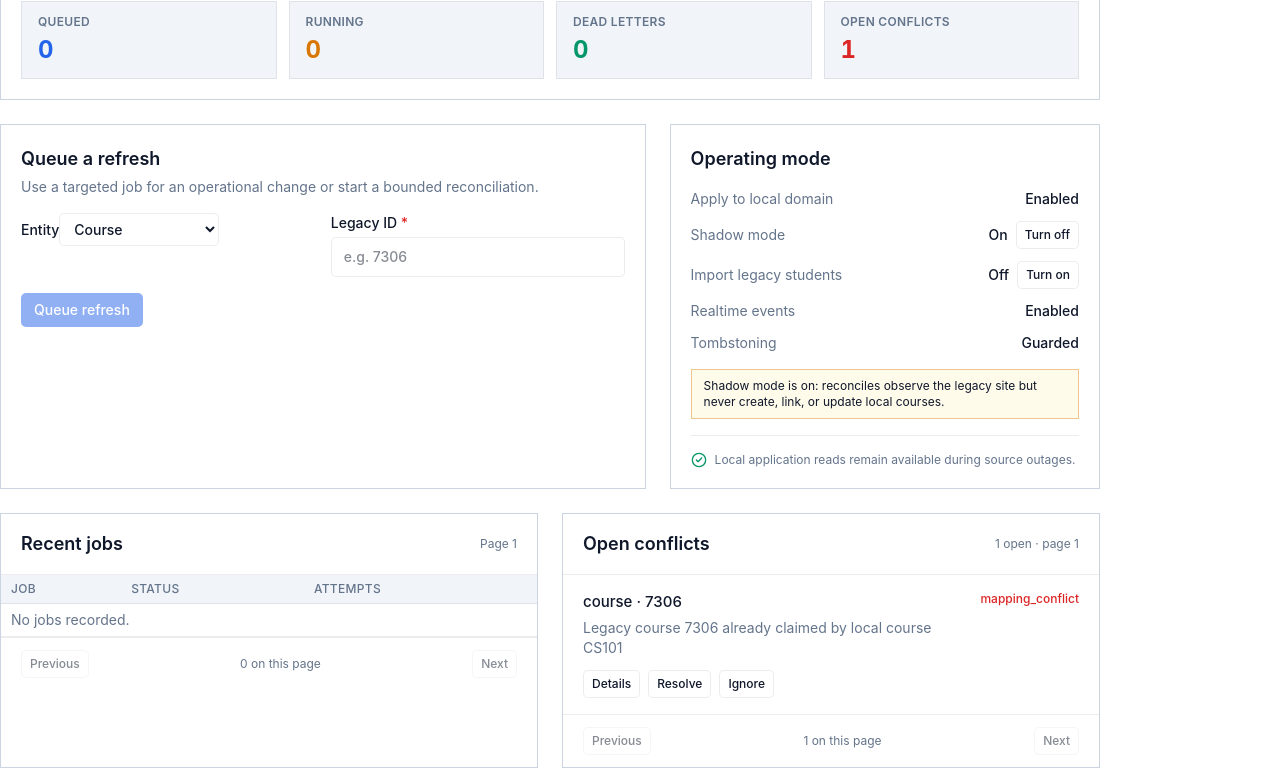
Legacy sync health conflict actions › renders payloads for open conflicts
The width and height of the screenshot is (1280, 768).
(page scrolled)
expect the text "Legacy course 7306 already claimed by local course CS101" is shown: met, box [583, 618, 964, 658]
# Payloads are no longer in the list for heavy-data performance — they load on Details click
Click the button "Details" at (612, 684), box [583, 670, 640, 698]
(page scrolled)
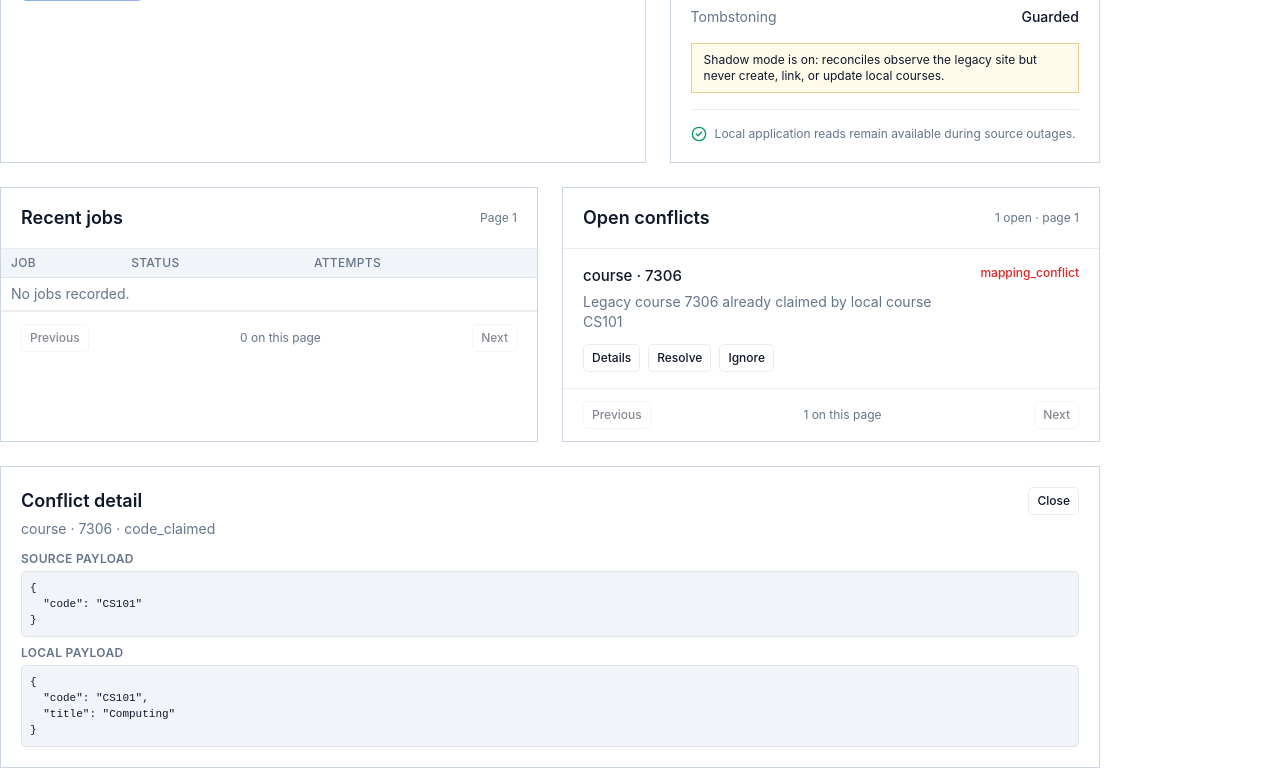
expect the text "Source payload" is shown: met, box [21, 550, 134, 566]
expect the text "Local payload" is shown: met, box [21, 644, 123, 660]
expect the text "{ \"code\": \"CS101\", \"title\": \"Computing\" }" is shown: met, box [21, 664, 1079, 746]
